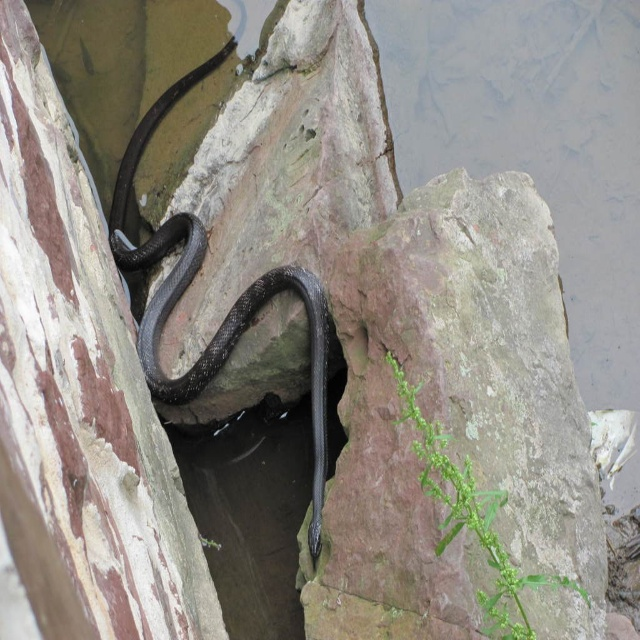Snake: (106, 0, 330, 571)
